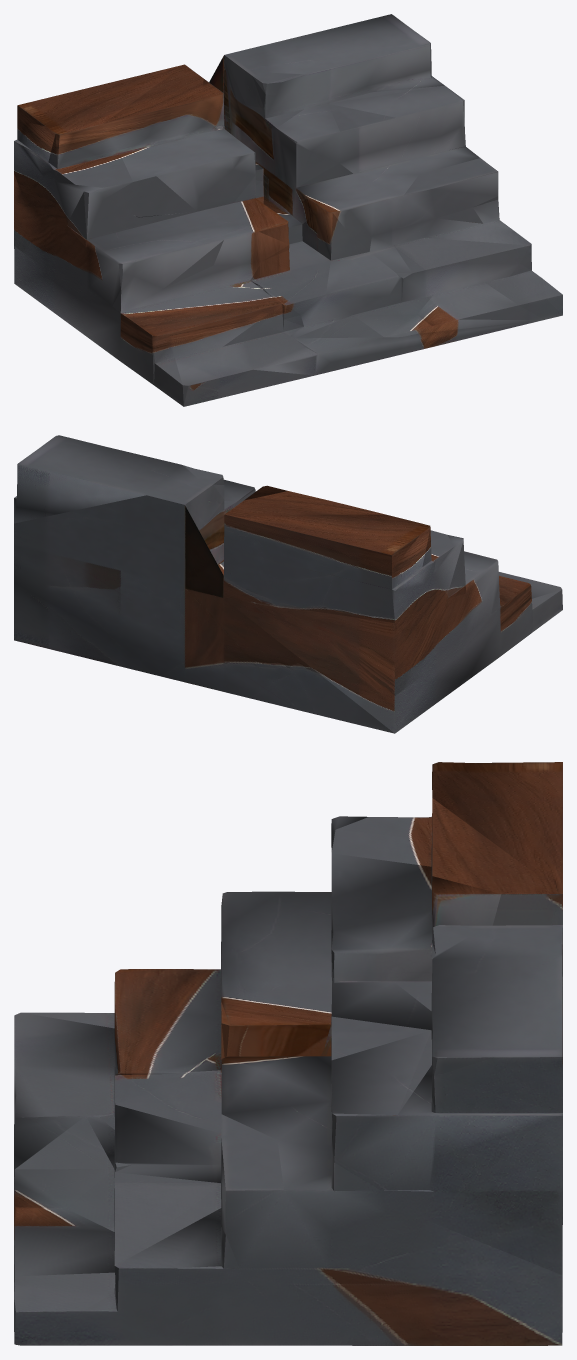
The model's file is ENV_Stairs.fbx.
3 views of the same model, one above another, from view 1: azimuth 30°, elevation 25°; view 2: azimuth 150°, elevation 25°; view 3: azimuth 270°, elevation 25° (orthographic). The views are drawn at different scales.
Visible parts, largest first — view 1: Mesh_0; view 2: Mesh_0; view 3: Mesh_0.
Part boxes in pixels (<box>): Mesh_0: <box>14,14,562,406</box>; Mesh_0: <box>14,435,562,733</box>; Mesh_0: <box>14,762,562,1345</box>.
Bounding box in the file's own units: 190 × 84.5 × 147.
1 material, 1 textured.
